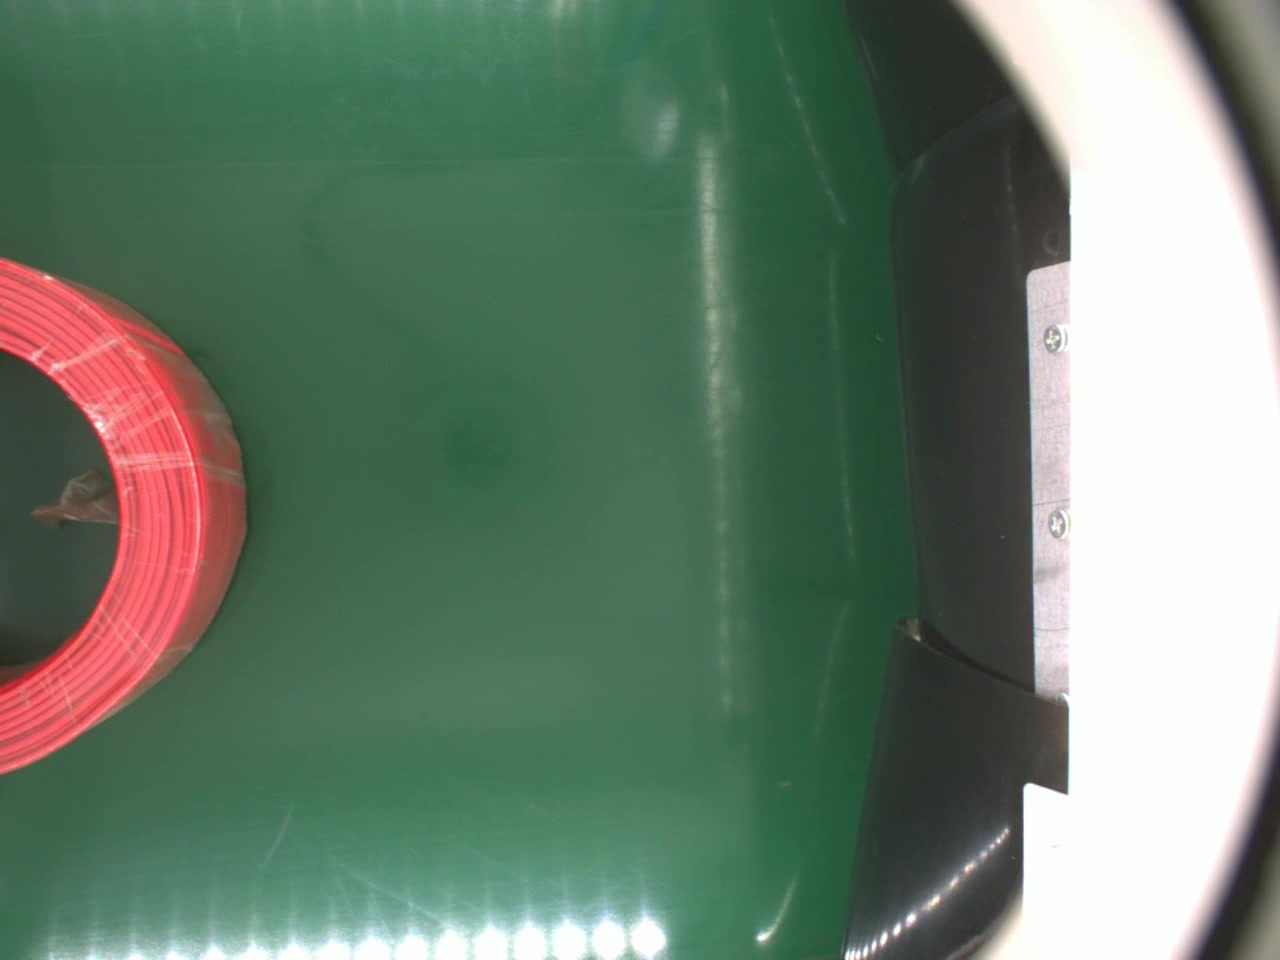red: (0, 255, 248, 777)
